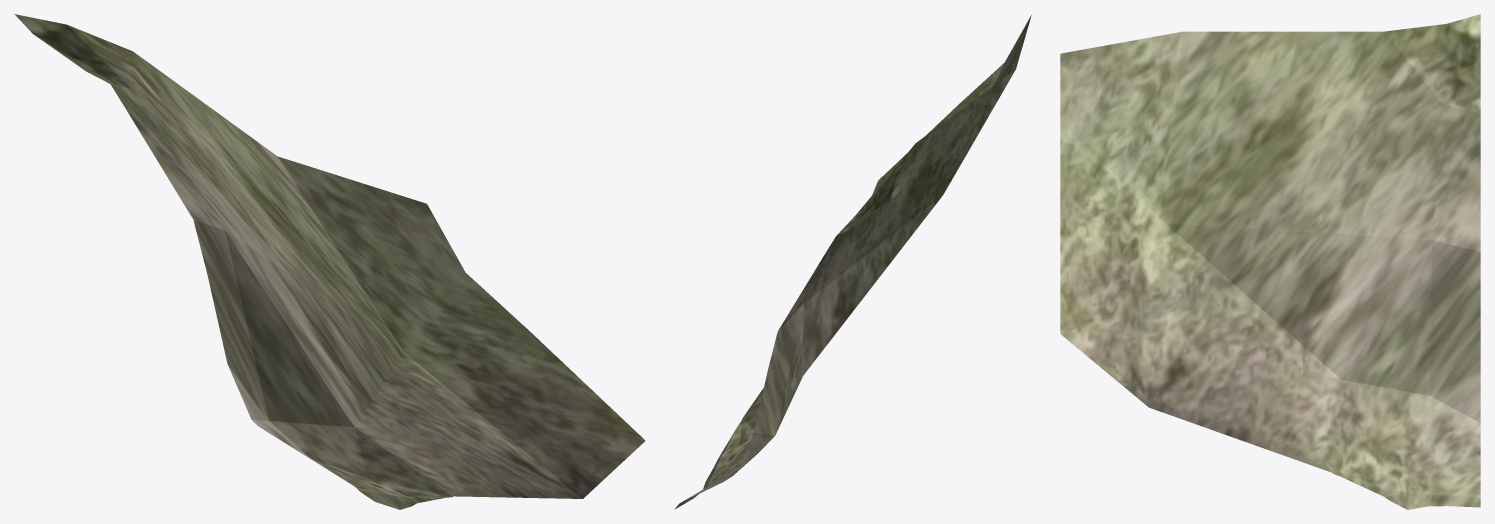
3 renders of one model, left to right at view 1: azimuth 30°, elevation 25°; view 2: azimuth 150°, elevation 25°; view 3: azimuth 270°, elevation 25°, orthographic. The views are drawn at different scales.
Size of the model in its own units: 1.91 by 2.95 by 2.95.
2 materials, 2 textured.
